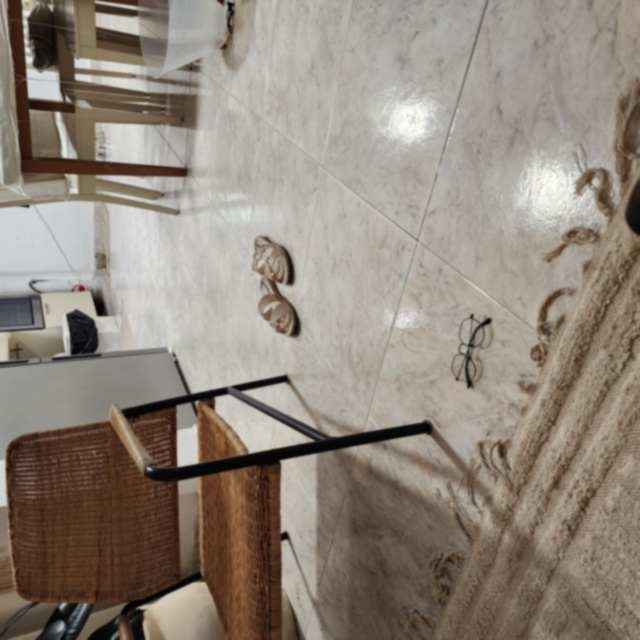glasses: (448, 311, 495, 390)
